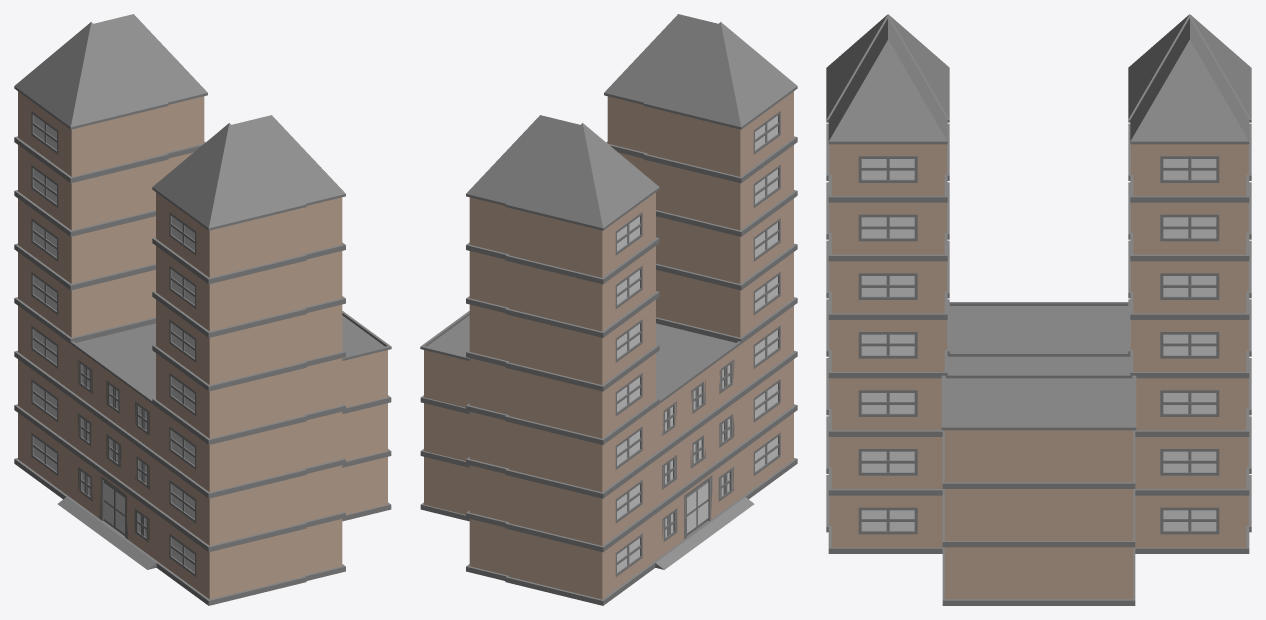
The model's file is Large apartment building 4.fbx.
The picture shows the model from 3 angles, left to right: view 1: azimuth 30°, elevation 25°; view 2: azimuth 150°, elevation 25°; view 3: azimuth 270°, elevation 25°; orthographic projection. The views are drawn at different scales.
Visible parts, largest first — view 1: building_001; view 2: building_001; view 3: building_001.
Boxes of the visible parts, x1,y1,x2,y2 form: building_001: [14, 14, 391, 605]; building_001: [420, 14, 797, 605]; building_001: [826, 14, 1251, 605].
Size of the model in its own units: 1052 by 1850 by 1447.
